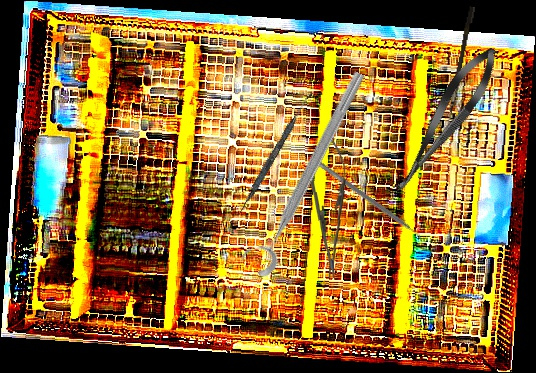Fixation Ring: (235, 62, 372, 280)
Hook Surgical: (443, 5, 476, 143)
Micro Scissor: (383, 39, 508, 201)
Needle Holder: (308, 132, 350, 280)
Spatula Surgical: (236, 89, 313, 219), (313, 160, 427, 245)
